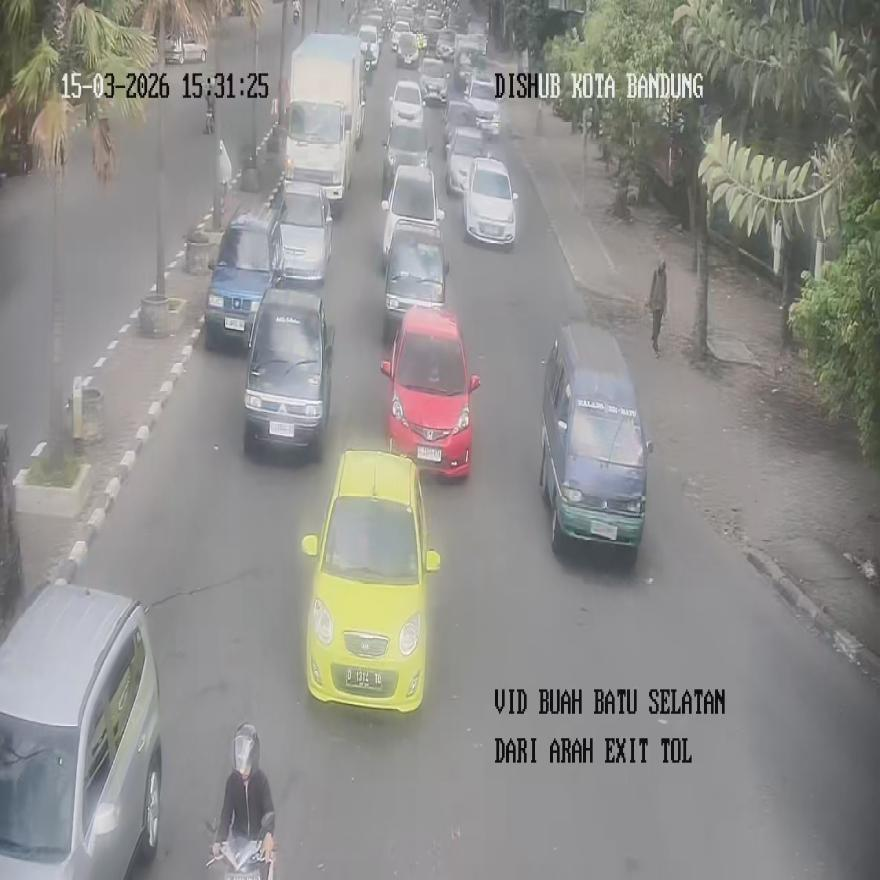Mobil: (0, 583, 162, 879), (300, 448, 440, 712), (538, 322, 652, 563), (381, 303, 479, 477), (242, 284, 333, 457), (203, 208, 282, 347), (383, 218, 450, 338), (381, 162, 443, 262), (275, 178, 332, 285), (463, 153, 517, 244), (382, 120, 431, 200)
Motor: (206, 814, 275, 880), (203, 84, 214, 134), (293, 0, 300, 24)
